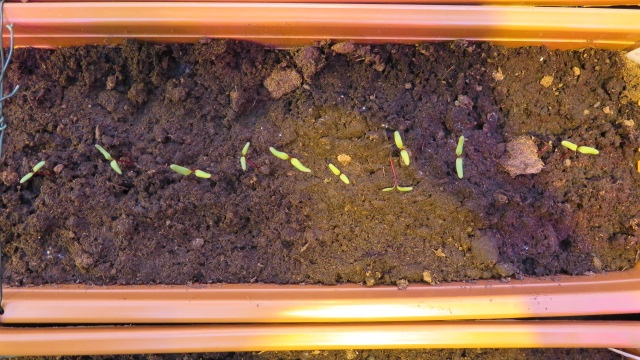crop: (265, 144, 313, 173), (381, 160, 413, 197), (90, 142, 124, 175), (391, 128, 414, 167), (556, 138, 605, 156), (451, 133, 469, 180), (16, 159, 48, 184), (166, 163, 216, 179), (325, 162, 352, 186), (237, 139, 252, 171)
